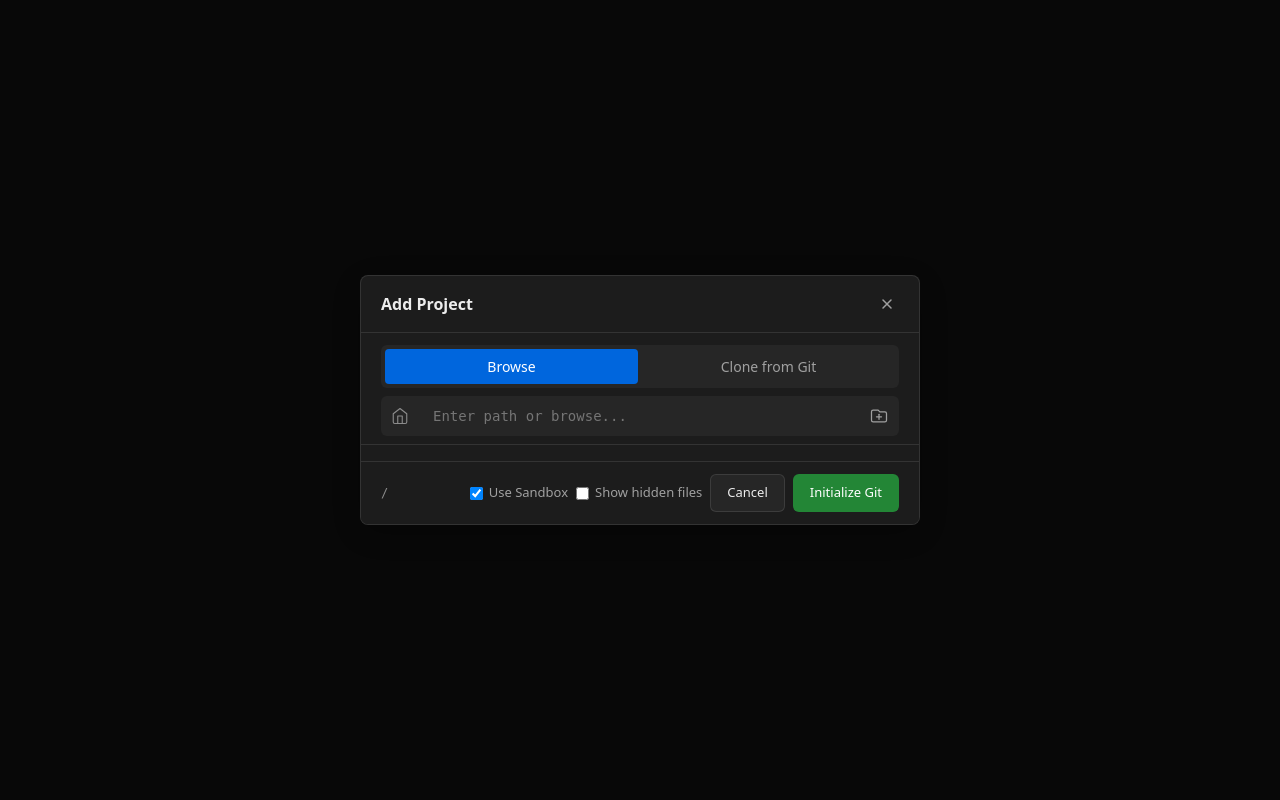
it: FileBrowser — the hidden-names option › keeps dot-prefixed rows out of the listing, and the parent row with them
The image size is (1280, 800).
Click the button with class "home-btn" at point(400, 416), box [385, 400, 415, 432]
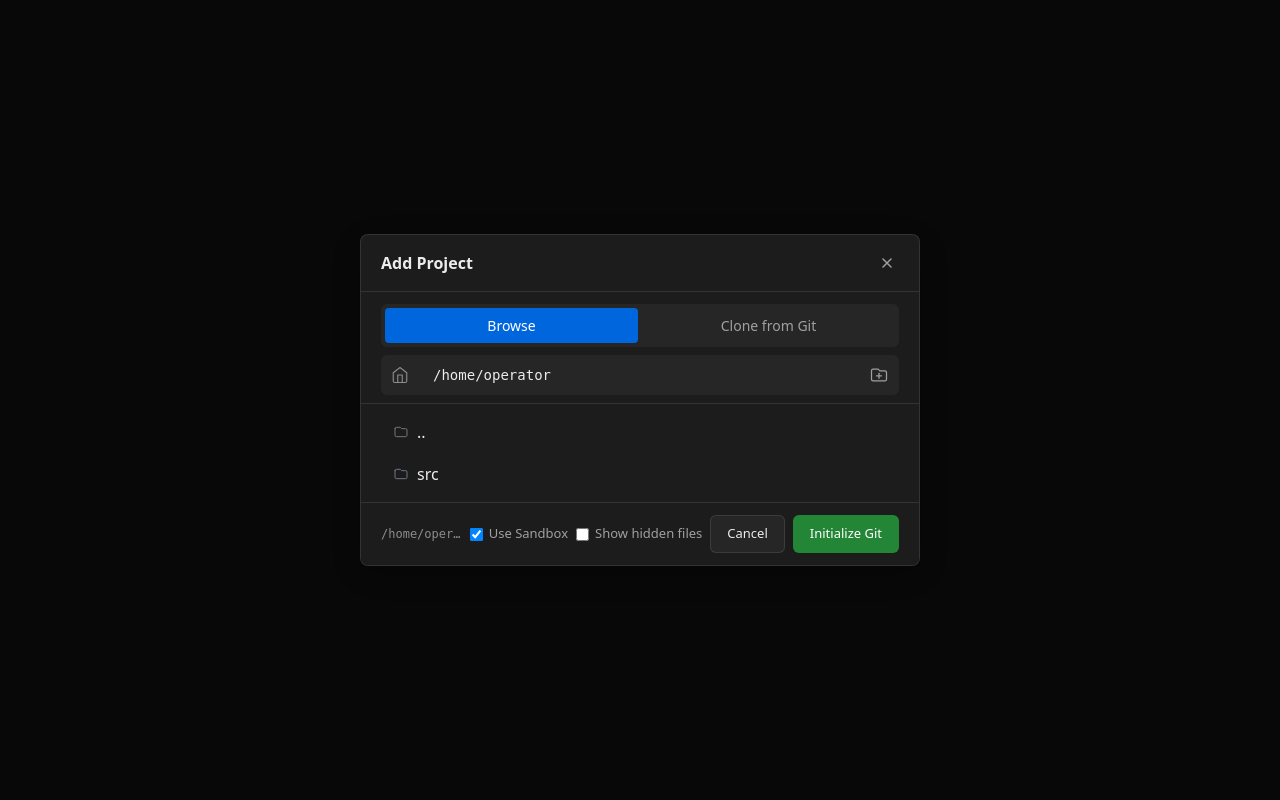
expect the checkbox with class "hidden-toggle" is not checked: met, box [576, 528, 589, 540]
expect the button with class "file-entry" showing ".." is shown: met, box [381, 412, 899, 452]
